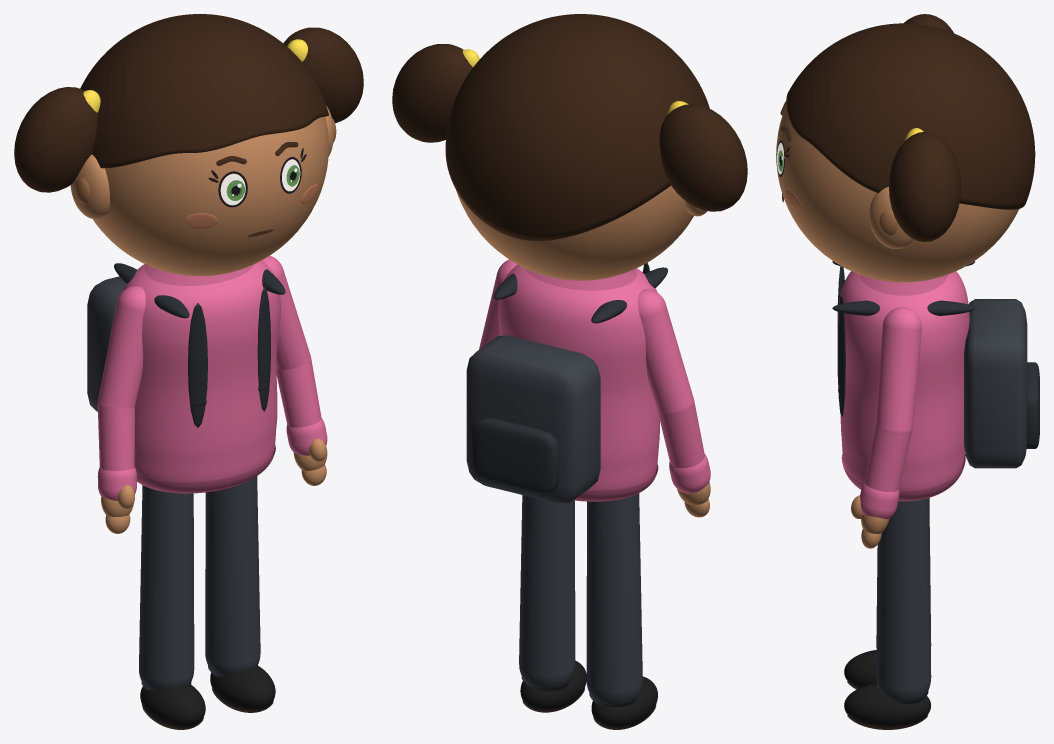
Rendered from leerling_f.glb.
The picture shows the model from 3 angles, left to right: view 1: azimuth 30°, elevation 25°; view 2: azimuth 150°, elevation 25°; view 3: azimuth 270°, elevation 25°; orthographic projection. The views are drawn at different scales.
Visible parts, largest first — view 1: leerling_f_haar, leerling_f_romp, leerling_f_hoofd, leerling_f_been_R, leerling_f_been_L, leerling_f_staartje_R, leerling_f_bovenarm_R, leerling_f_staartje_L, leerling_f_rugzak, leerling_f_onderarm_R, leerling_f_onderarm_L, leerling_f_schoen_R (+10 smaller); view 2: leerling_f_haar, leerling_f_romp, leerling_f_rugzak, leerling_f_been_R, leerling_f_been_L, leerling_f_hoofd, leerling_f_staartje_R, leerling_f_staartje_L, leerling_f_rugzak_vak, leerling_f_bovenarm_R, leerling_f_onderarm_R, leerling_f_schoen_R (+6 smaller); view 3: leerling_f_haar, leerling_f_romp, leerling_f_hoofd, leerling_f_rugzak, leerling_f_been_L, leerling_f_staartje_L, leerling_f_bovenarm_L, leerling_f_schoen_L, leerling_f_onderarm_L, leerling_f_oor_L, leerling_f_rugzak_vak, leerling_f_rugzak_schouder_L (+6 smaller).
Boxes of the visible parts, box(x1,y1,x2,y2) form: leerling_f_haar: box(80, 14, 328, 168); leerling_f_romp: box(123, 260, 280, 482); leerling_f_hoofd: box(93, 116, 328, 276); leerling_f_been_R: box(139, 485, 194, 690); leerling_f_been_L: box(205, 476, 260, 675); leerling_f_staartje_R: box(14, 87, 97, 192); leerling_f_bovenarm_R: box(98, 285, 145, 409); leerling_f_staartje_L: box(283, 27, 363, 123); leerling_f_rugzak: box(87, 276, 126, 411); leerling_f_onderarm_R: box(97, 403, 134, 470); leerling_f_onderarm_L: box(276, 359, 321, 427); leerling_f_schoen_R: box(140, 684, 205, 727); leerling_f_haar: box(445, 14, 709, 240); leerling_f_romp: box(498, 264, 659, 490); leerling_f_rugzak: box(466, 335, 600, 503); leerling_f_been_R: box(586, 493, 642, 704); leerling_f_been_L: box(519, 495, 575, 688); leerling_f_hoofd: box(456, 186, 693, 280); leerling_f_staartje_R: box(659, 104, 747, 211); leerling_f_staartje_L: box(392, 44, 472, 142); leerling_f_rugzak_vak: box(471, 417, 558, 493); leerling_f_bovenarm_R: box(638, 289, 693, 414); leerling_f_onderarm_R: box(657, 402, 704, 468); leerling_f_schoen_R: box(591, 676, 657, 727); leerling_f_haar: box(786, 23, 1035, 209); leerling_f_romp: box(838, 271, 969, 491); leerling_f_hoofd: box(776, 105, 1018, 282); leerling_f_rugzak: box(964, 299, 1027, 468); leerling_f_been_L: box(876, 498, 931, 701); leerling_f_staartje_L: box(889, 132, 961, 241); leerling_f_bovenarm_L: box(876, 307, 921, 434); leerling_f_schoen_L: box(844, 683, 931, 725); leerling_f_onderarm_L: box(865, 425, 911, 491); leerling_f_oor_L: box(869, 186, 913, 248); leerling_f_rugzak_vak: box(1026, 362, 1039, 448); leerling_f_rugzak_schouder_L: box(832, 300, 974, 315).
Bounding box in the file's own units: 0.8704 × 1.66 × 0.5888.
